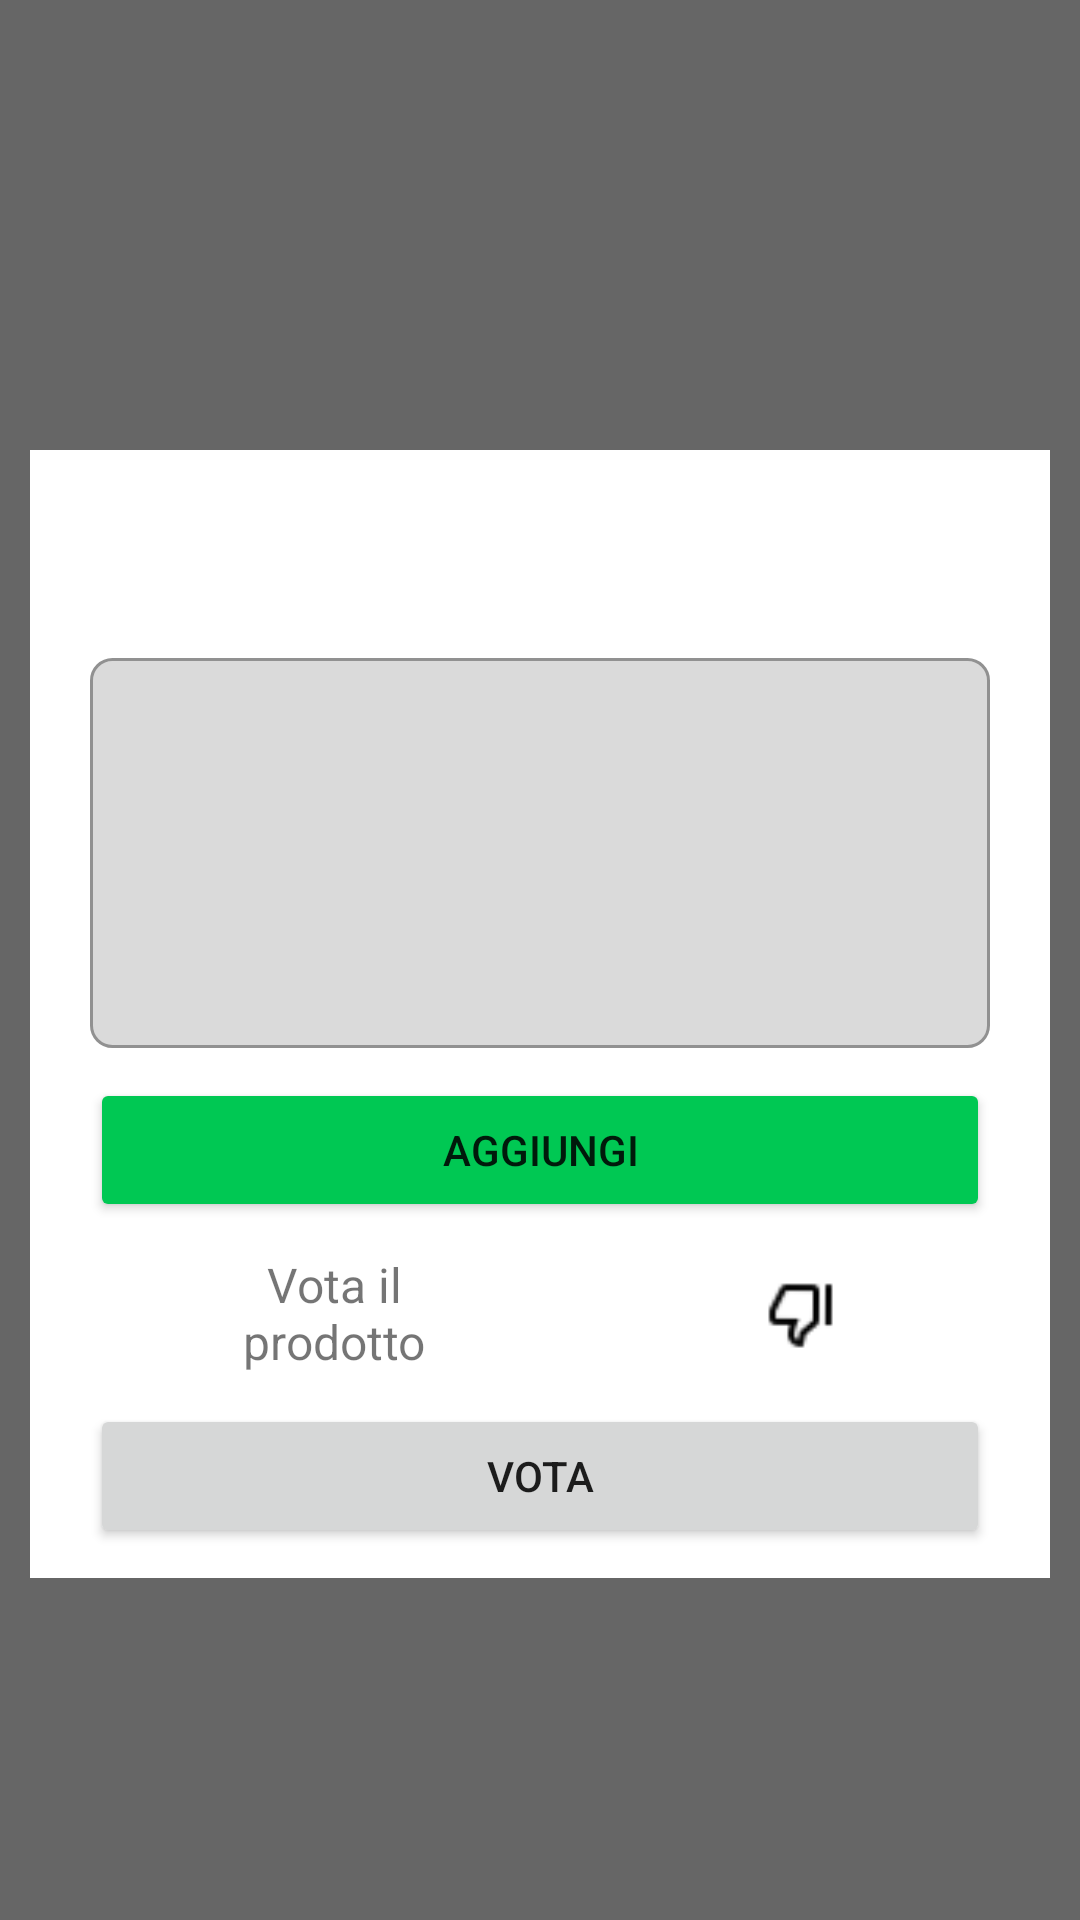

Where to tap for icons on this 1080w x 1920h app screen, as (x,y):
thumb down: (800,1315)
